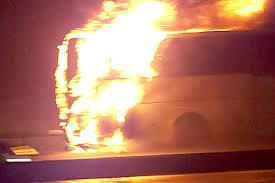fire: (47, 0, 272, 155)
